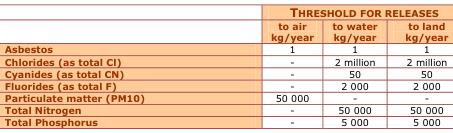table: (3, 4, 447, 127)
table column: (3, 4, 207, 127), (207, 4, 322, 127), (322, 4, 390, 127), (390, 4, 447, 127)
table column header: (3, 4, 447, 42)
table row: (3, 18, 447, 42), (3, 4, 447, 18), (3, 66, 447, 79), (3, 42, 447, 54), (3, 54, 447, 66), (3, 79, 447, 91), (3, 91, 447, 103), (3, 103, 447, 115), (3, 115, 447, 127)
table spanning cell: (207, 4, 447, 18)
